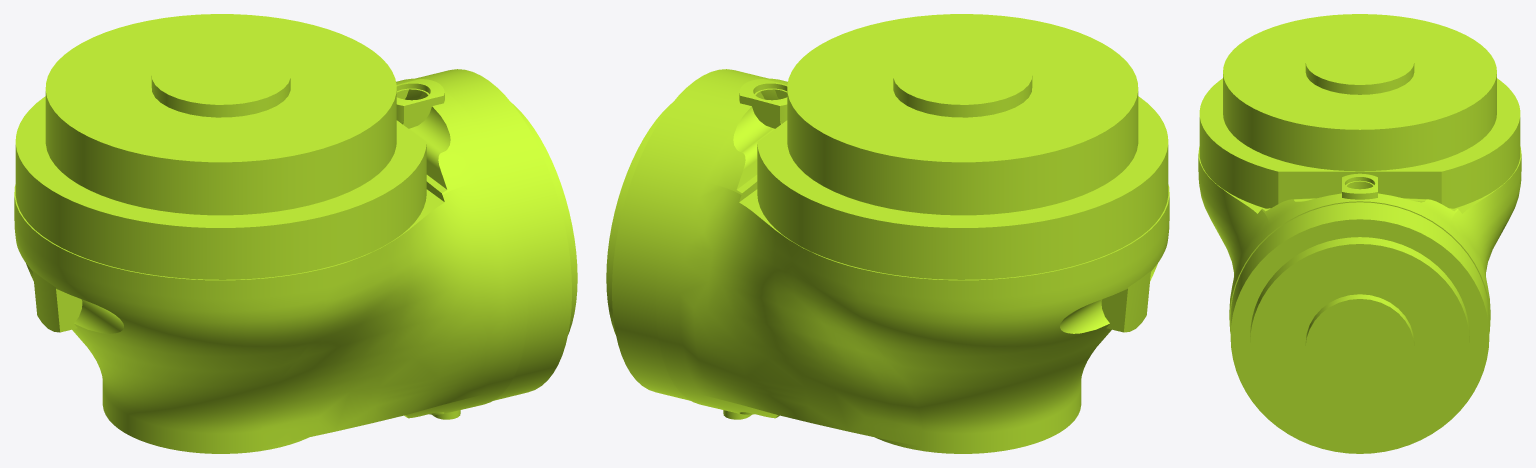
The model's file is Pfen3DE45D4A9opp_58_Pfen3DE45D4A9opp_Mesh_0.obj.
3 views of the same model, side by side, from view 1: azimuth 30°, elevation 25°; view 2: azimuth 150°, elevation 25°; view 3: azimuth 270°, elevation 25° (orthographic). The views are drawn at different scales.
Visible parts, largest first — view 1: Mesh_Diffuse_9; view 2: Mesh_Diffuse_9; view 3: Mesh_Diffuse_9.
Boxes of the visible parts, x1=… form: Mesh_Diffuse_9: x1=14, y1=14, x2=577, y2=453; Mesh_Diffuse_9: x1=606, y1=14, x2=1169, y2=453; Mesh_Diffuse_9: x1=1198, y1=14, x2=1521, y2=453.
Bounding box in the file's own units: 0.3955 × 0.298 × 0.297.
